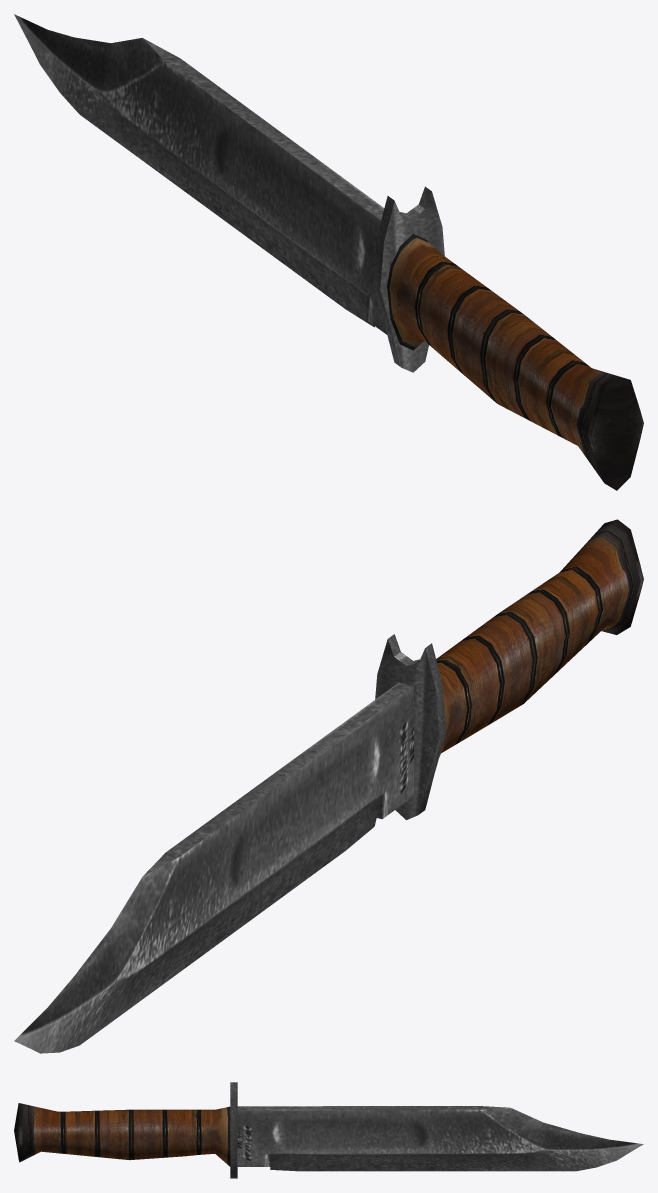
File: knife3a.FBX
The picture shows the model from 3 angles, top to bottom: view 1: azimuth 30°, elevation 25°; view 2: azimuth 150°, elevation 25°; view 3: azimuth 270°, elevation 25°; orthographic projection. The views are drawn at different scales.
Visible parts, largest first — view 1: knife3a; view 2: knife3a; view 3: knife3a.
Boxes of the visible parts, box(x1,y1,x2,y2) form: knife3a: box(14, 14, 643, 490); knife3a: box(14, 519, 643, 1053); knife3a: box(14, 1082, 643, 1178).
Size of the model in its own units: 0.024 by 0.3826 by 0.0614.
